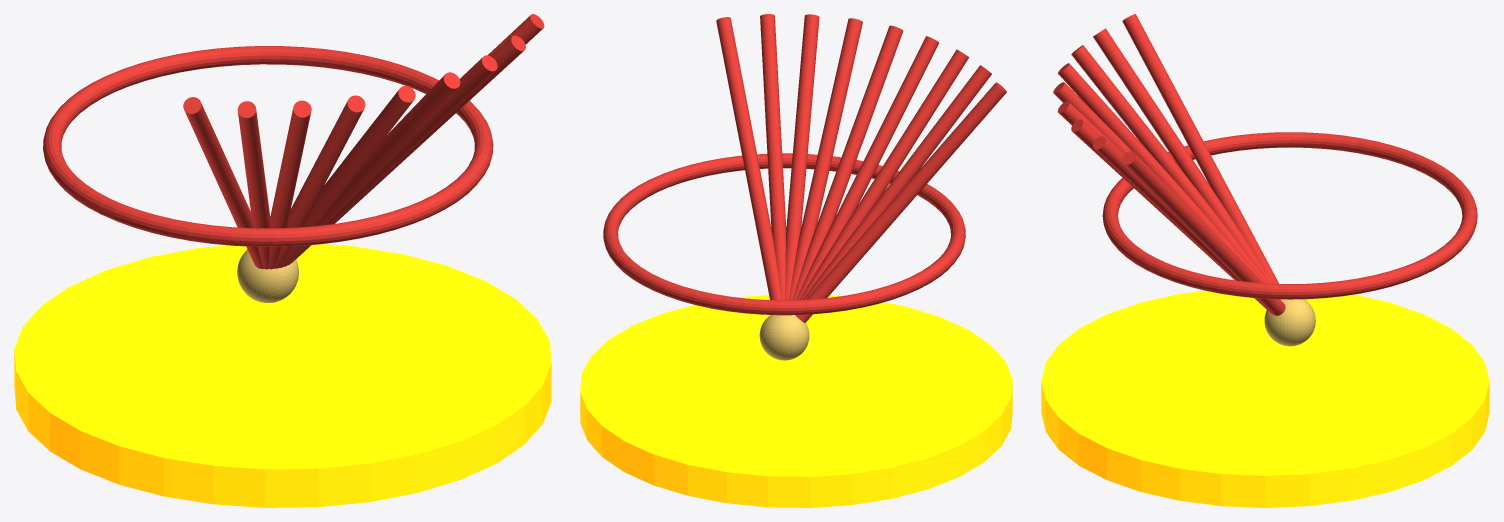
Rendered from spanish_hand_fan.glb.
3 views of the same model, side by side, from view 1: azimuth 30°, elevation 25°; view 2: azimuth 150°, elevation 25°; view 3: azimuth 270°, elevation 25° (orthographic). The views are drawn at different scales.
Visible parts, largest first — view 1: 11_06_Popular_Spanish_Hand_Fan_ROOT_base, 11_06_Popular_Spanish_Hand_Fan_part_11, 11_06_Popular_Spanish_Hand_Fan_part_07, 11_06_Popular_Spanish_Hand_Fan_part_06, 11_06_Popular_Spanish_Hand_Fan_part_05, 11_06_Popular_Spanish_Hand_Fan_part_02, 11_06_Popular_Spanish_Hand_Fan_part_04, 11_06_Popular_Spanish_Hand_Fan_part_03, 11_06_Popular_Spanish_Hand_Fan_part_08, 11_06_Popular_Spanish_Hand_Fan_part_01, 11_06_Popular_Spanish_Hand_Fan_part_09, 11_06_Popular_Spanish_Hand_Fan_part_10; view 2: 11_06_Popular_Spanish_Hand_Fan_ROOT_base, 11_06_Popular_Spanish_Hand_Fan_part_11, 11_06_Popular_Spanish_Hand_Fan_part_02, 11_06_Popular_Spanish_Hand_Fan_part_10, 11_06_Popular_Spanish_Hand_Fan_part_07, 11_06_Popular_Spanish_Hand_Fan_part_08, 11_06_Popular_Spanish_Hand_Fan_part_09, 11_06_Popular_Spanish_Hand_Fan_part_06, 11_06_Popular_Spanish_Hand_Fan_part_05, 11_06_Popular_Spanish_Hand_Fan_part_04, 11_06_Popular_Spanish_Hand_Fan_part_03, 11_06_Popular_Spanish_Hand_Fan_part_01; view 3: 11_06_Popular_Spanish_Hand_Fan_ROOT_base, 11_06_Popular_Spanish_Hand_Fan_part_11, 11_06_Popular_Spanish_Hand_Fan_part_02, 11_06_Popular_Spanish_Hand_Fan_part_03, 11_06_Popular_Spanish_Hand_Fan_part_04, 11_06_Popular_Spanish_Hand_Fan_part_10, 11_06_Popular_Spanish_Hand_Fan_part_05, 11_06_Popular_Spanish_Hand_Fan_part_01, 11_06_Popular_Spanish_Hand_Fan_part_09, 11_06_Popular_Spanish_Hand_Fan_part_06, 11_06_Popular_Spanish_Hand_Fan_part_08, 11_06_Popular_Spanish_Hand_Fan_part_07.
Part boxes in pixels (x1,y1,x2,y2): 11_06_Popular_Spanish_Hand_Fan_ROOT_base: (14,244,551,507); 11_06_Popular_Spanish_Hand_Fan_part_11: (43,46,493,246); 11_06_Popular_Spanish_Hand_Fan_part_07: (284,72,460,266); 11_06_Popular_Spanish_Hand_Fan_part_06: (279,86,415,267); 11_06_Popular_Spanish_Hand_Fan_part_05: (274,95,365,268); 11_06_Popular_Spanish_Hand_Fan_part_02: (183,97,263,268); 11_06_Popular_Spanish_Hand_Fan_part_04: (269,100,311,269); 11_06_Popular_Spanish_Hand_Fan_part_03: (237,101,270,269); 11_06_Popular_Spanish_Hand_Fan_part_08: (288,55,497,265); 11_06_Popular_Spanish_Hand_Fan_part_01: (237,249,298,302); 11_06_Popular_Spanish_Hand_Fan_part_09: (291,35,525,263); 11_06_Popular_Spanish_Hand_Fan_part_10: (487,14,544,56); 11_06_Popular_Spanish_Hand_Fan_ROOT_base: (580,295,1012,507); 11_06_Popular_Spanish_Hand_Fan_part_11: (603,153,965,315); 11_06_Popular_Spanish_Hand_Fan_part_02: (795,82,1006,322); 11_06_Popular_Spanish_Hand_Fan_part_10: (716,17,781,300); 11_06_Popular_Spanish_Hand_Fan_part_07: (788,18,862,300); 11_06_Popular_Spanish_Hand_Fan_part_08: (785,14,819,300); 11_06_Popular_Spanish_Hand_Fan_part_09: (760,14,786,300); 11_06_Popular_Spanish_Hand_Fan_part_06: (792,25,903,300); 11_06_Popular_Spanish_Hand_Fan_part_05: (796,36,938,300); 11_06_Popular_Spanish_Hand_Fan_part_04: (799,49,968,299); 11_06_Popular_Spanish_Hand_Fan_part_03: (803,65,991,299); 11_06_Popular_Spanish_Hand_Fan_part_01: (759,315,809,360); 11_06_Popular_Spanish_Hand_Fan_ROOT_base: (1041,290,1489,507); 11_06_Popular_Spanish_Hand_Fan_part_11: (1102,132,1477,299); 11_06_Popular_Spanish_Hand_Fan_part_02: (1122,14,1278,283); 11_06_Popular_Spanish_Hand_Fan_part_03: (1093,28,1273,283); 11_06_Popular_Spanish_Hand_Fan_part_04: (1071,45,1269,283); 11_06_Popular_Spanish_Hand_Fan_part_10: (1122,151,1285,315); 11_06_Popular_Spanish_Hand_Fan_part_05: (1058,63,1266,283); 11_06_Popular_Spanish_Hand_Fan_part_01: (1264,299,1315,346); 11_06_Popular_Spanish_Hand_Fan_part_09: (1093,136,1272,314); 11_06_Popular_Spanish_Hand_Fan_part_06: (1053,82,1132,153); 11_06_Popular_Spanish_Hand_Fan_part_08: (1071,119,1268,311); 11_06_Popular_Spanish_Hand_Fan_part_07: (1057,101,1124,154).
Bounding box in the file's own units: 0.76 × 0.618 × 0.76.
